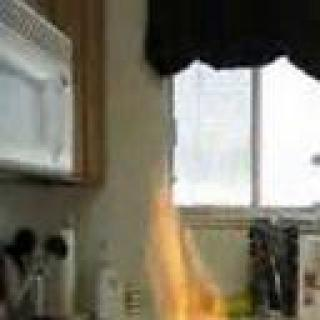fire: (132, 186, 257, 320)
